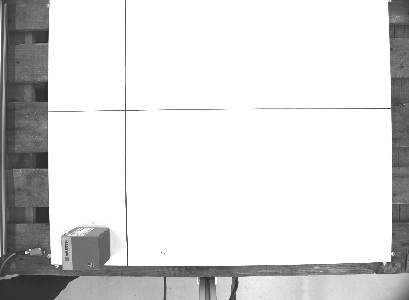b7: (58, 224, 112, 272)
